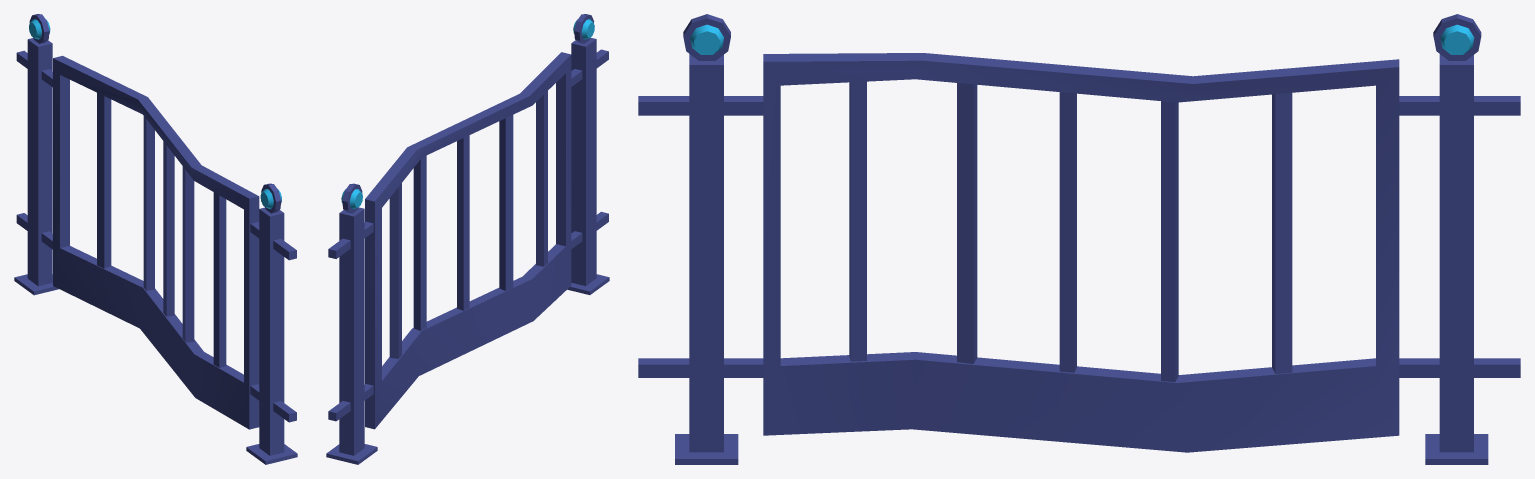
Rendered from SM_FenceGate_02.fbx.
3 views of the same model, side by side, from view 1: azimuth 30°, elevation 25°; view 2: azimuth 150°, elevation 25°; view 3: azimuth 270°, elevation 25° (orthographic). The views are drawn at different scales.
Parts seen in each view (by area): view 1: SM_FenceGate_02; view 2: SM_FenceGate_02; view 3: SM_FenceGate_02.
Part boxes in pixels (x1,y1,x2,y2): SM_FenceGate_02: (14,14,297,464); SM_FenceGate_02: (326,14,609,464); SM_FenceGate_02: (638,14,1520,464).
Size of the model in its own units: 78.34 by 477 by 875.
